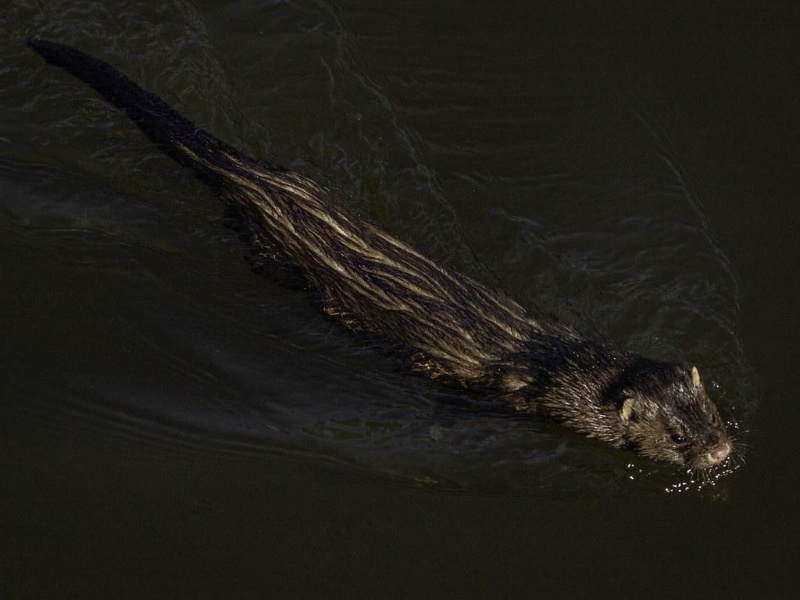minkish: (40, 25, 737, 475)
